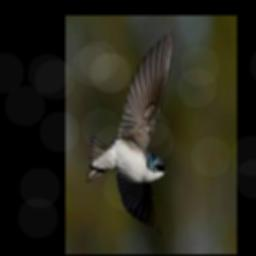Swallow: (86, 30, 174, 235)
